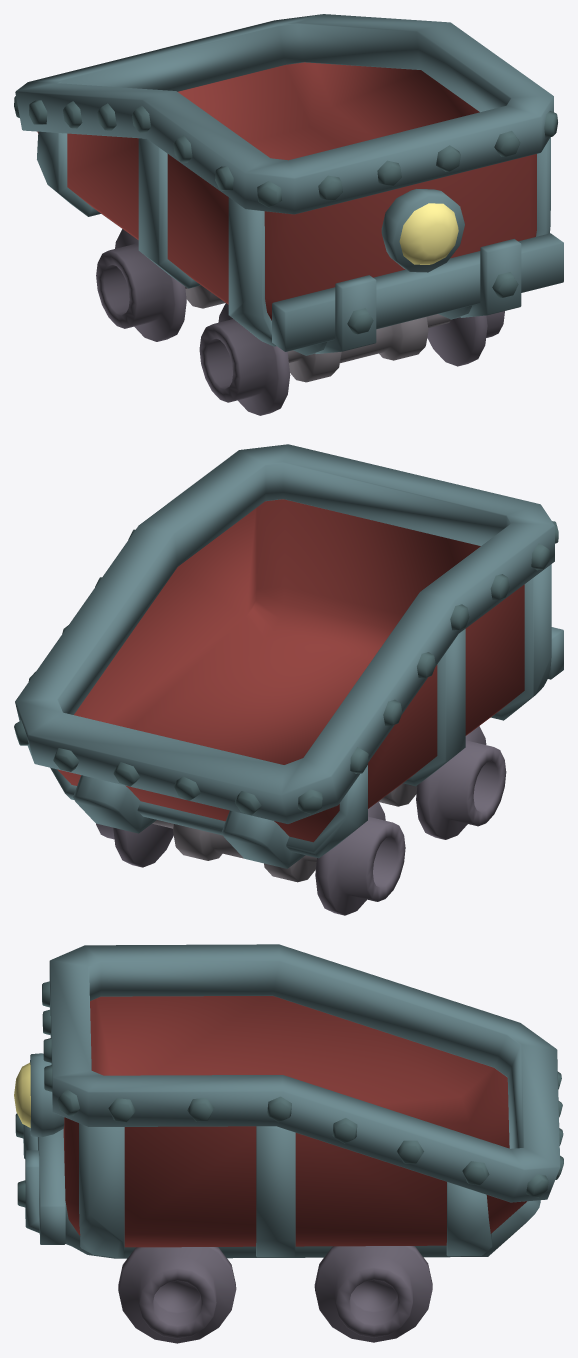
Rendered from minecart.glb.
3 renders of one model, top to bottom at view 1: azimuth 30°, elevation 25°; view 2: azimuth 150°, elevation 25°; view 3: azimuth 270°, elevation 25°, orthographic. The views are drawn at different scales.
Parts seen in each view (by area): view 1: MINECART; view 2: MINECART; view 3: MINECART.
Part boxes in pixels (x1,y1,x2,y2): MINECART: [14, 14, 563, 415]; MINECART: [14, 444, 563, 915]; MINECART: [14, 944, 563, 1343].
Size of the model in its own units: 1.99 by 1.65 by 2.97.
1 material, 1 textured.
